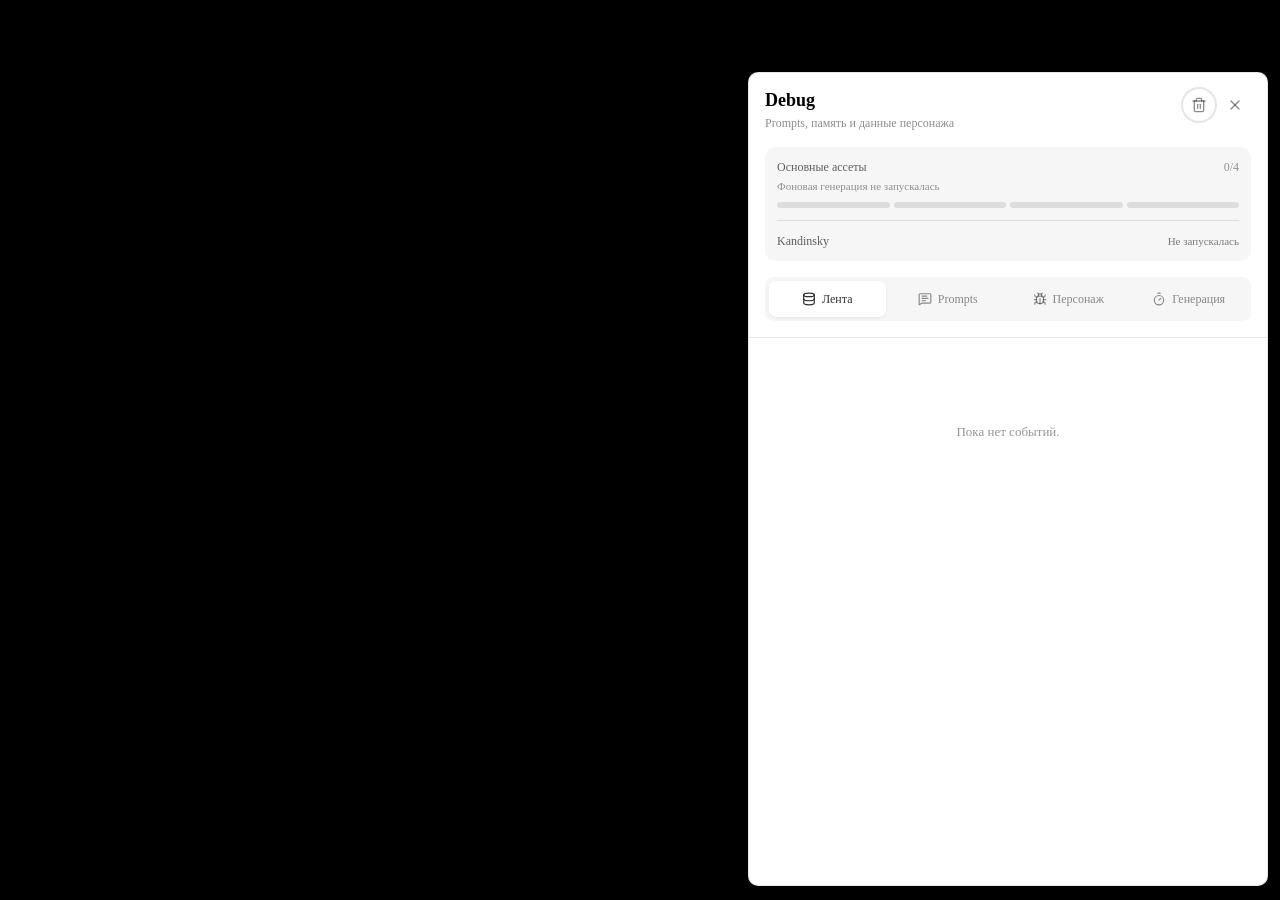
DebugPanel generation stats › loads personal generation durations on demand
The image size is (1280, 900).
Click the button "Генерация" at (1189, 299), box [1130,281,1247,317]
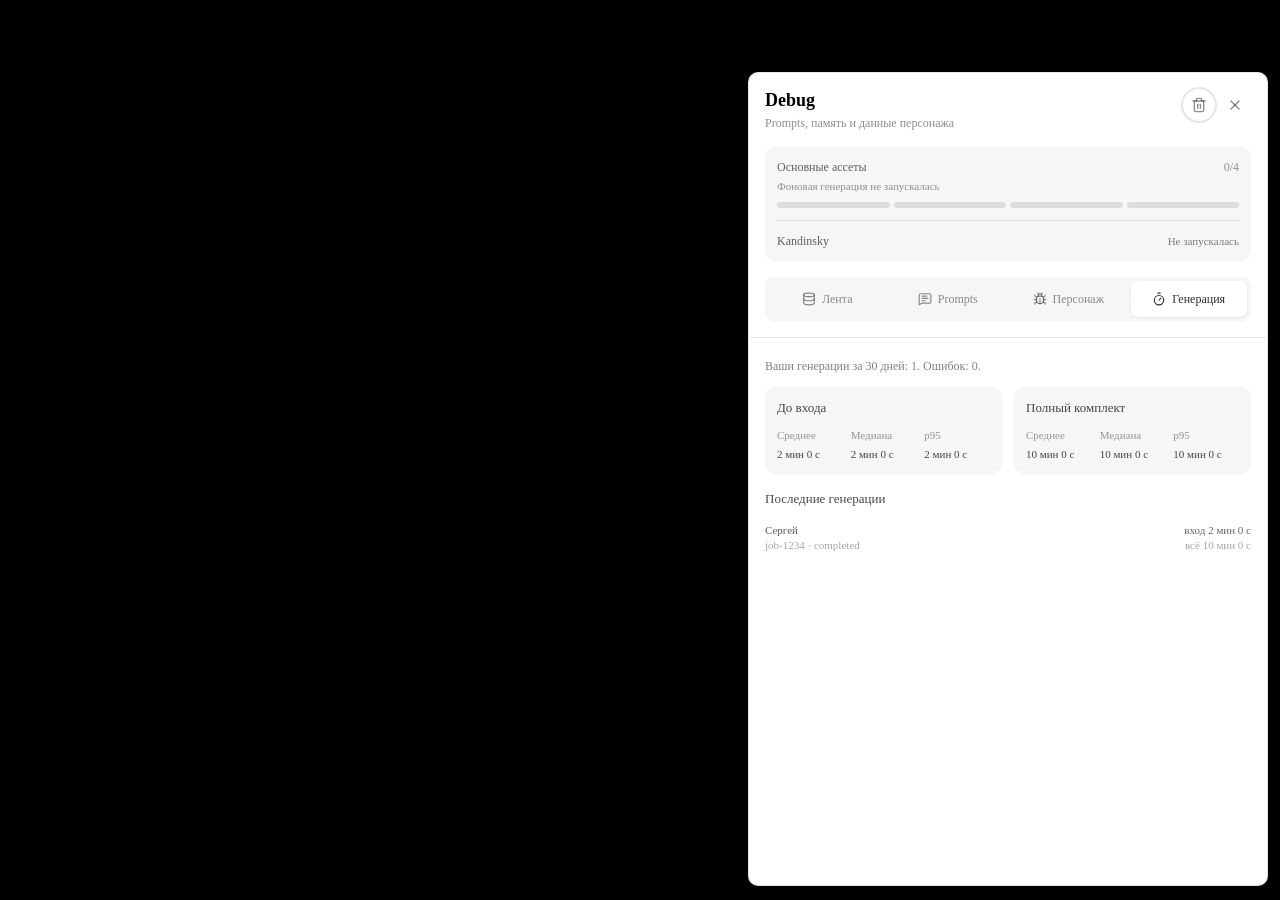
Check: the heading "До входа" is shown, box [777,400,826,415]
Check: the 1st text "2 мин 0 с" is shown, box [777,448,820,460]
Check: the text "Сергей" is shown, box [765,524,798,536]
